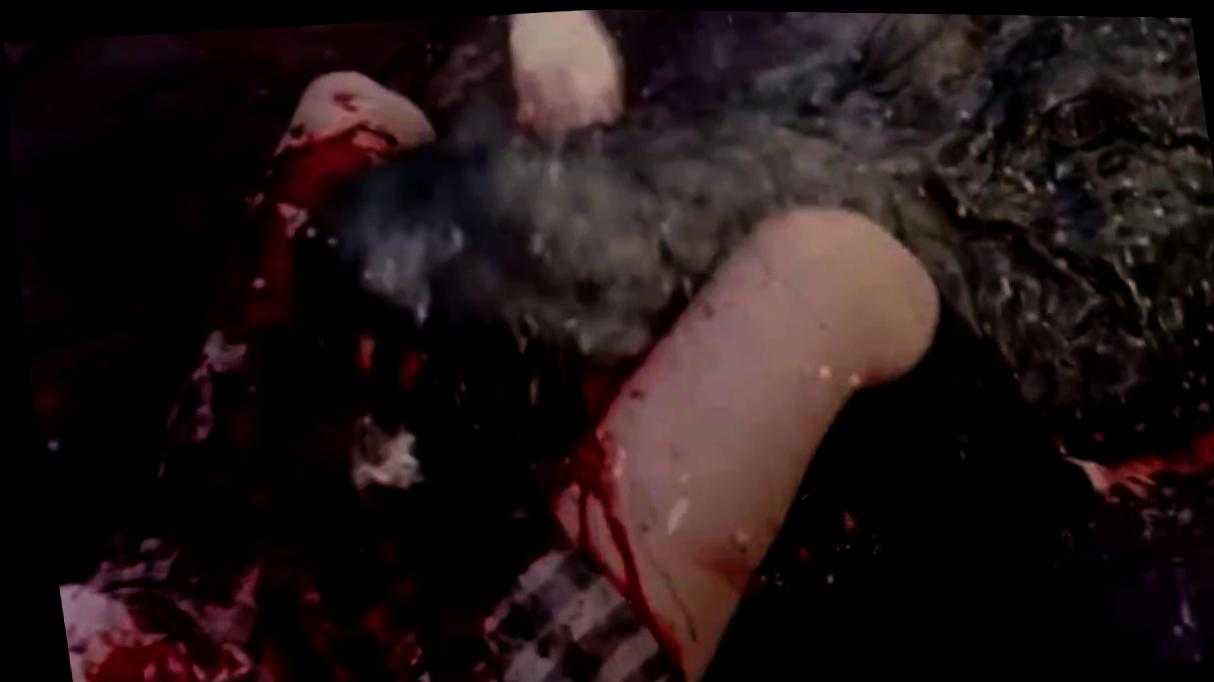Fire: (79, 72, 674, 682), (1034, 333, 1214, 518)
